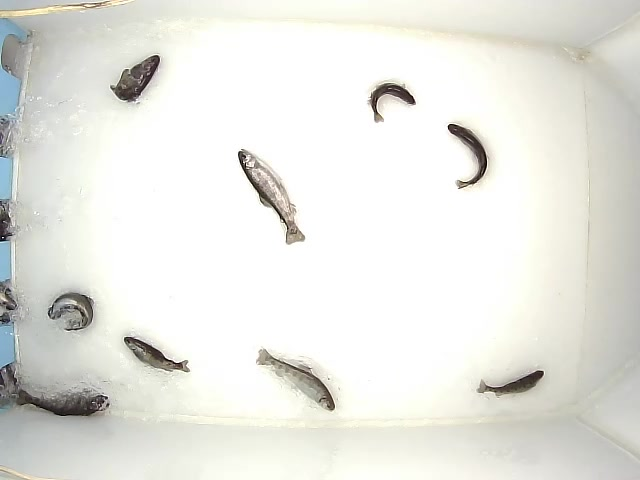fish: (237, 148, 306, 245), (255, 347, 336, 413), (1, 388, 111, 417), (447, 123, 488, 190), (109, 53, 161, 103), (123, 336, 191, 374), (368, 82, 417, 123), (475, 370, 545, 398), (47, 292, 94, 331)
